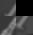sword: (16, 16, 33, 35), (0, 0, 16, 16)
